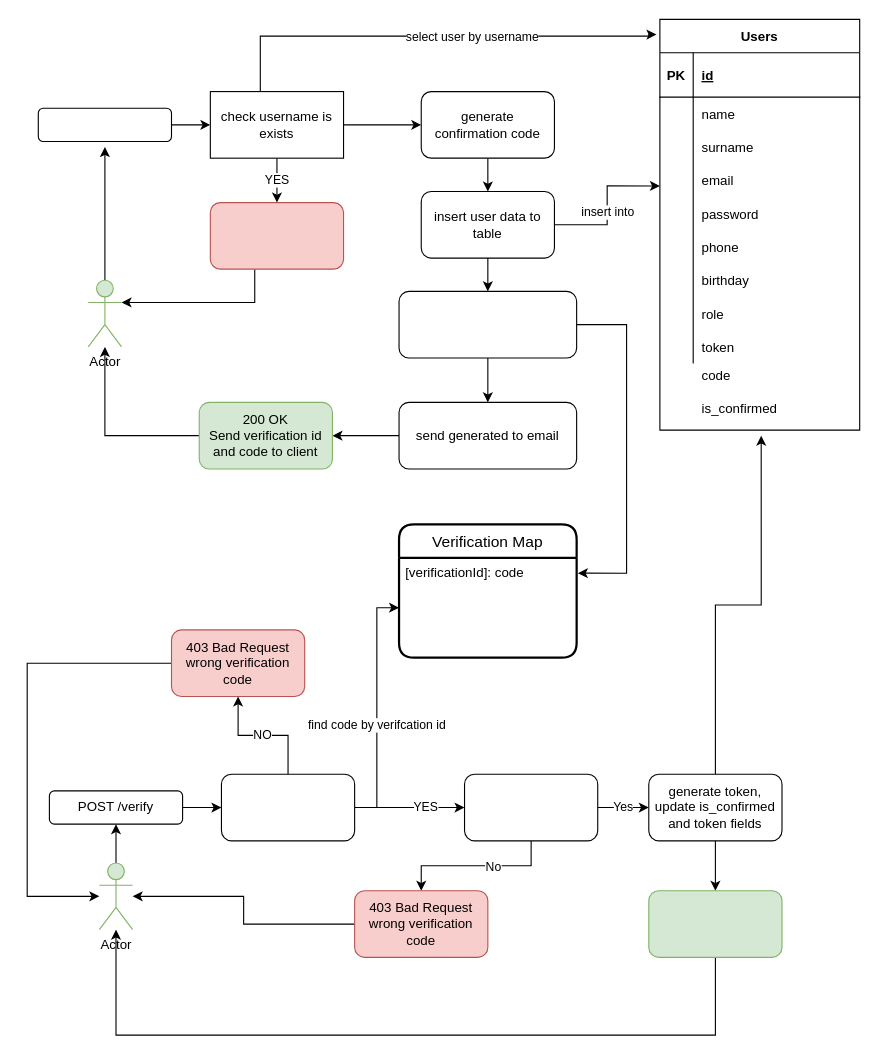
Image size: 879x1063. Some labels were removed from this diagram. Here are the shapes that lost their labels. From the top down, the centre of each, then its label:
At [104,124]: "POST /register".
At [276,235]: "400 Bad Request Username already taken".
At [487,324]: "generate verificationId, store to map with code".
At [287,807]: "find code by verification id If exists".
At [530,807]: "compare user code and stored code".
At [715,923]: "200 OK Successfuly registered".
